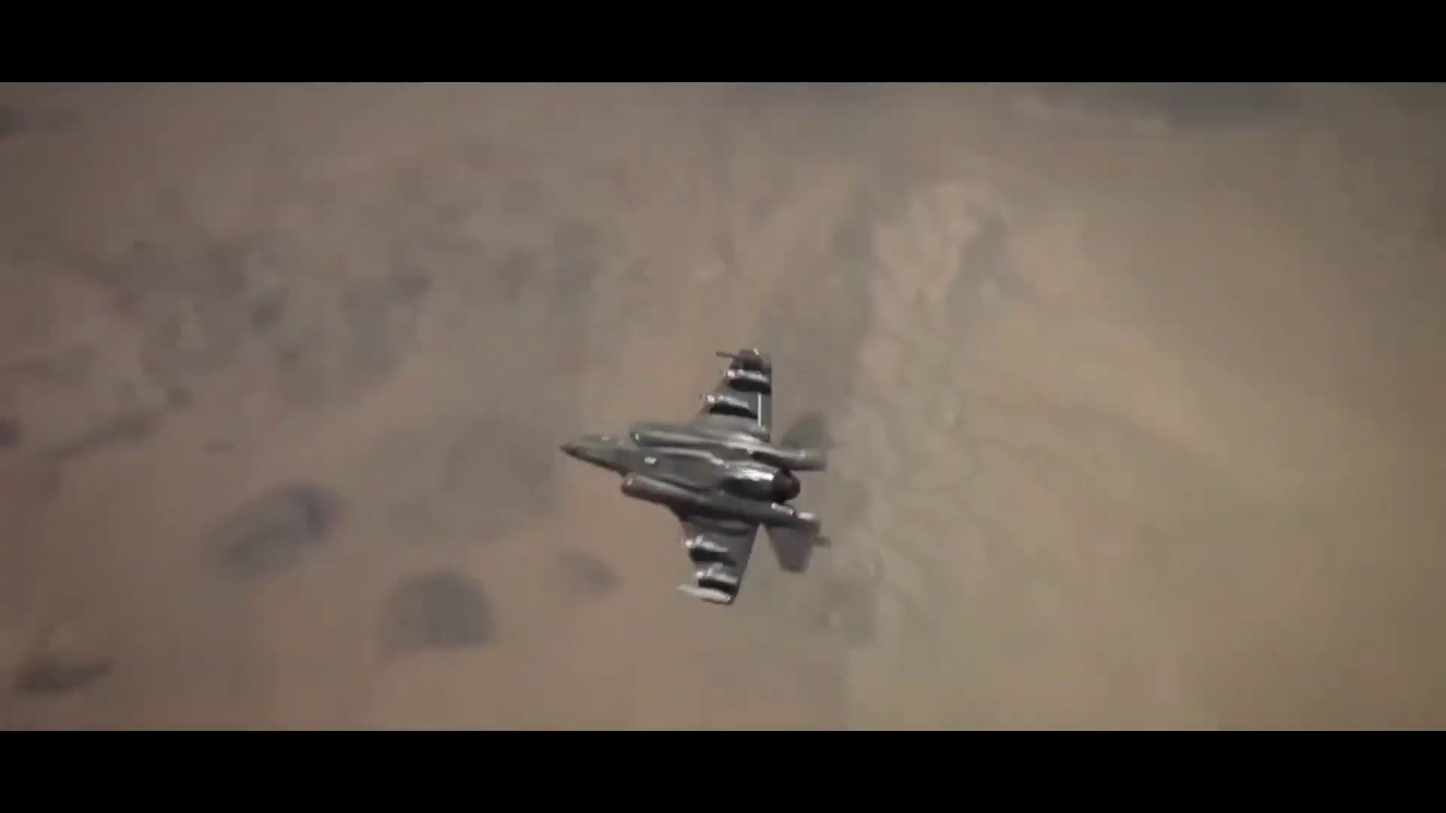F35: (563, 349, 839, 606)
